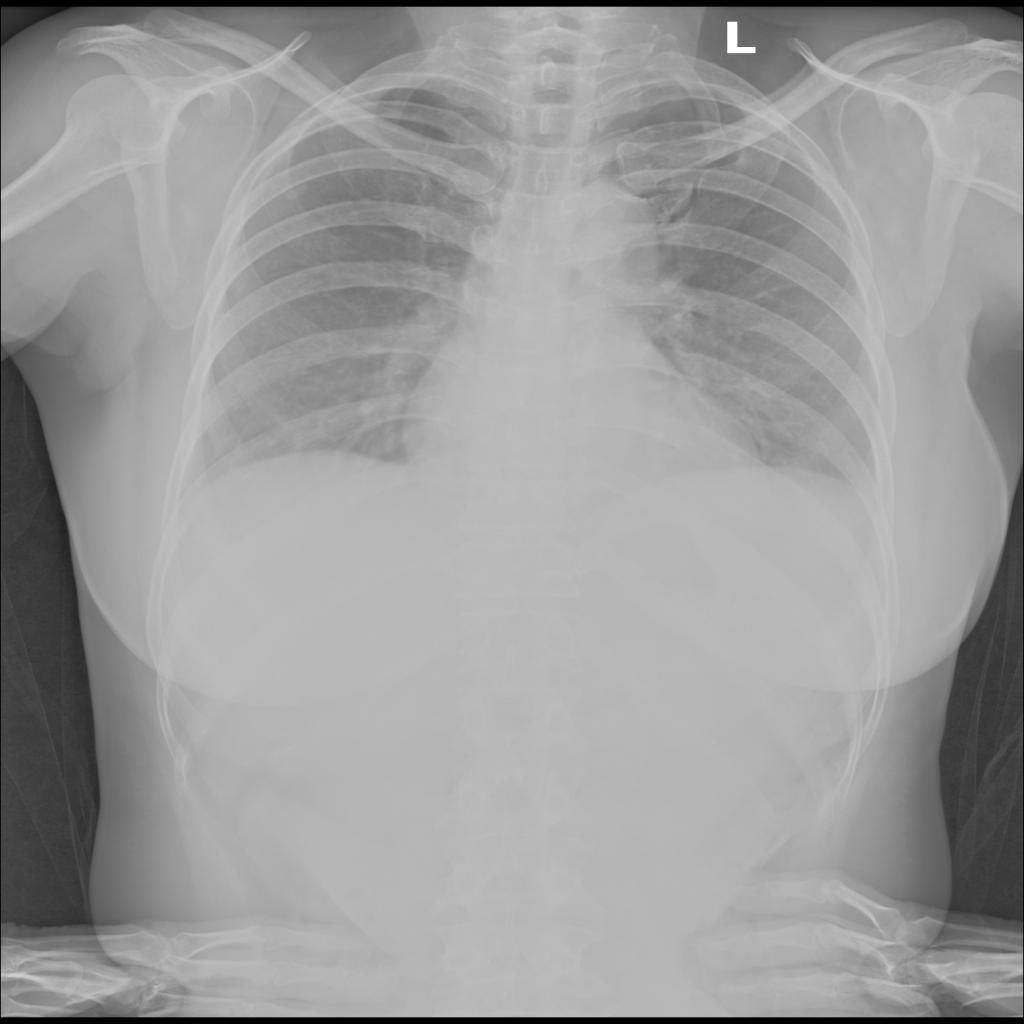Nodule: (286, 184, 309, 202)
